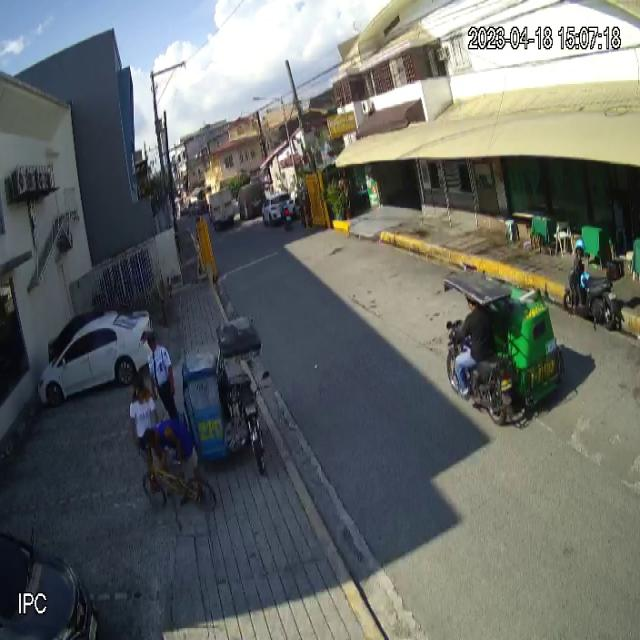Car: (38, 310, 154, 406)
Motorcycle: (563, 250, 625, 332)
Tricycle: (444, 269, 564, 426), (180, 316, 264, 477)
